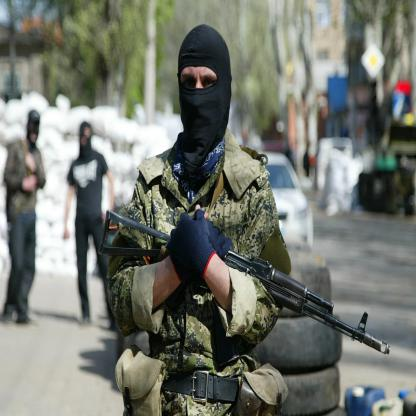rifle: (98, 201, 392, 359)
